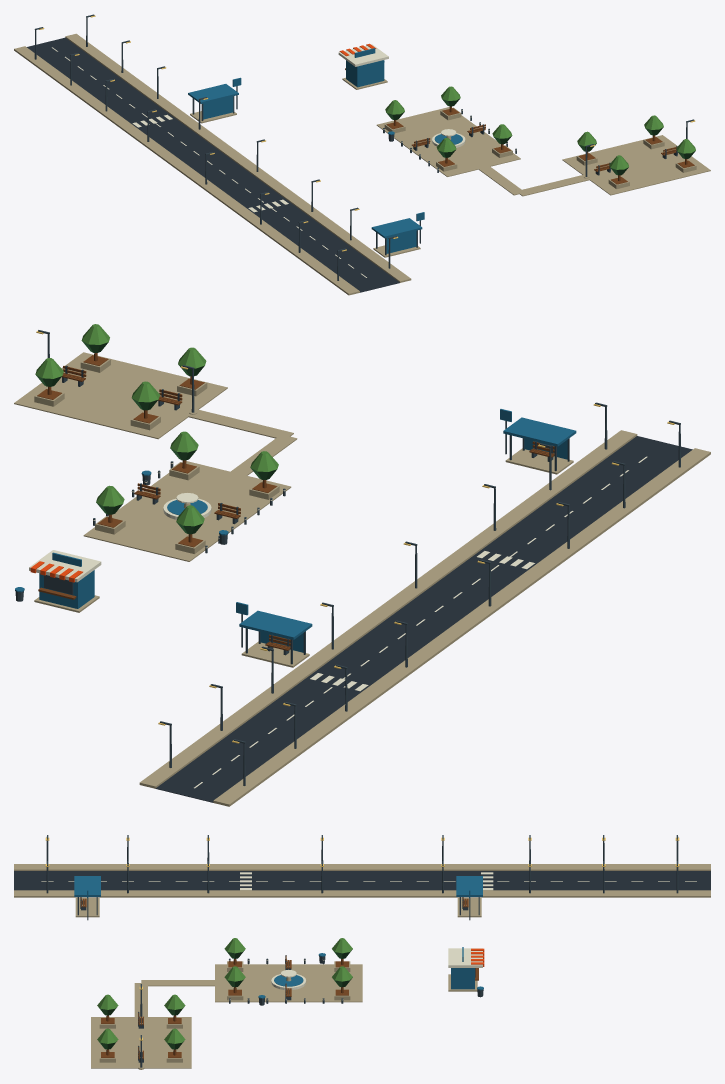
File: details-citta.obj
The picture shows the model from 3 angles, top to bottom: view 1: azimuth 30°, elevation 25°; view 2: azimuth 150°, elevation 25°; view 3: azimuth 270°, elevation 25°; orthographic projection. The views are drawn at different scales.
Bounding box in the file's own units: 365 × 27.4 × 520.
